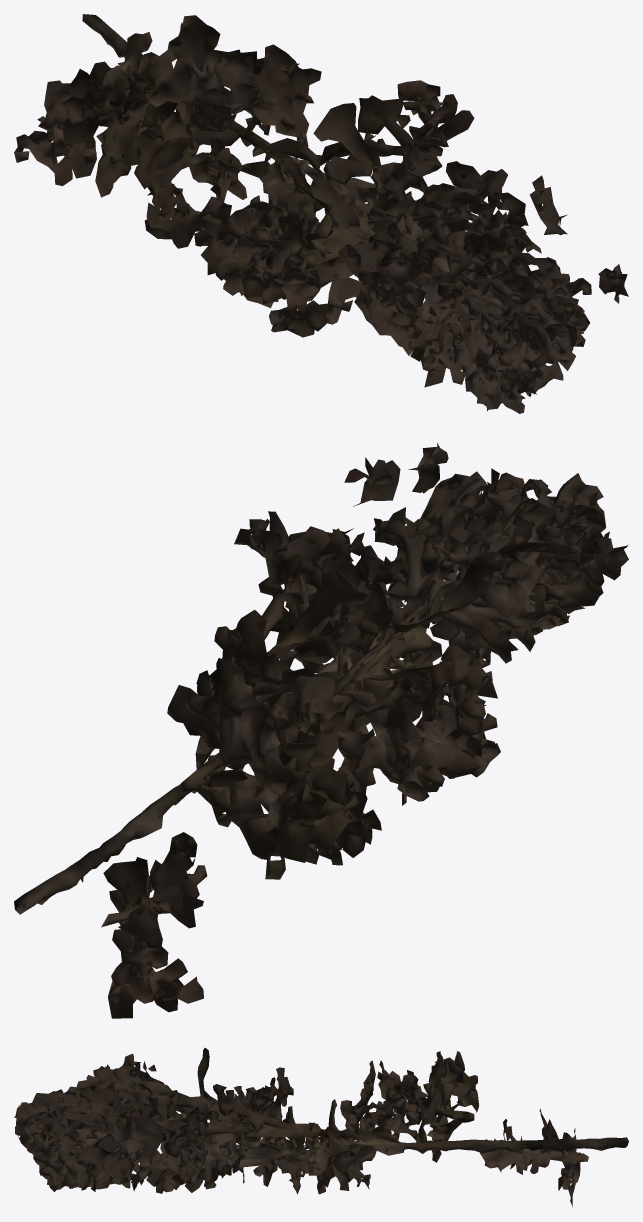
The model's file is tree11_mesh.dae.
3 views of the same model, one above another, from view 1: azimuth 30°, elevation 25°; view 2: azimuth 150°, elevation 25°; view 3: azimuth 270°, elevation 25° (orthographic). The views are drawn at different scales.
Parts seen in each view (by area): view 1: node0; view 2: node0; view 3: node0.
Part boxes in pixels (x1,y1,x2,y2): node0: [14, 14, 628, 413]; node0: [14, 443, 628, 1018]; node0: [14, 1048, 628, 1207].
Bounding box in the file's own units: 8.1 × 7.54 × 26.92.
